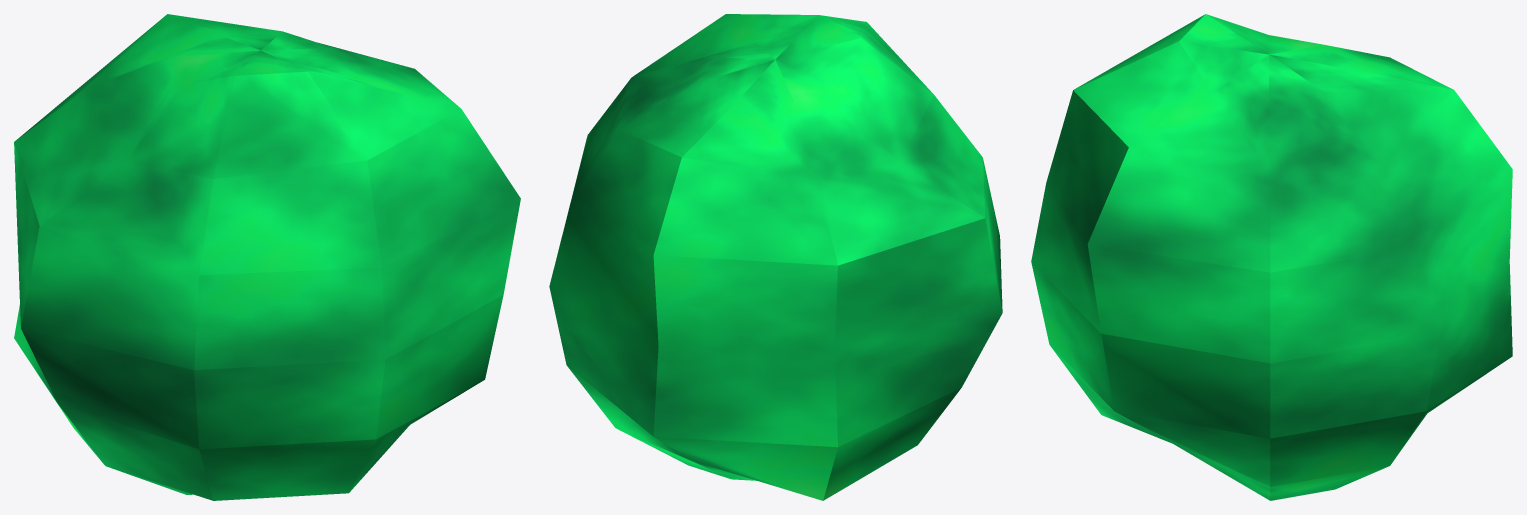
Rendered from Locnar.fbx.
3 views of the same model, side by side, from view 1: azimuth 30°, elevation 25°; view 2: azimuth 150°, elevation 25°; view 3: azimuth 270°, elevation 25° (orthographic). The views are drawn at different scales.
Parts seen in each view (by area): view 1: Ball; view 2: Ball; view 3: Ball.
Part boxes in pixels (x1,y1,x2,y2): Ball: (14,14,520,500); Ball: (549,14,1002,500); Ball: (1031,14,1512,500).
Bounding box in the file's own units: 73.47 × 68.95 × 69.65.
